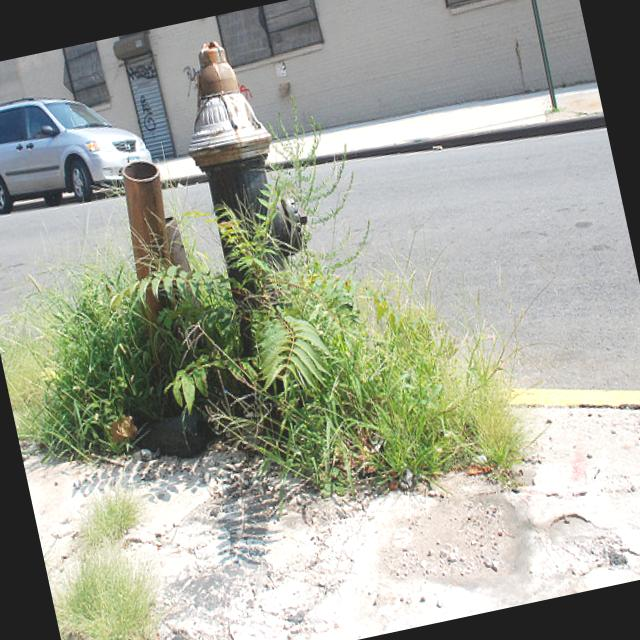Vehicle: (0, 72, 157, 224)
